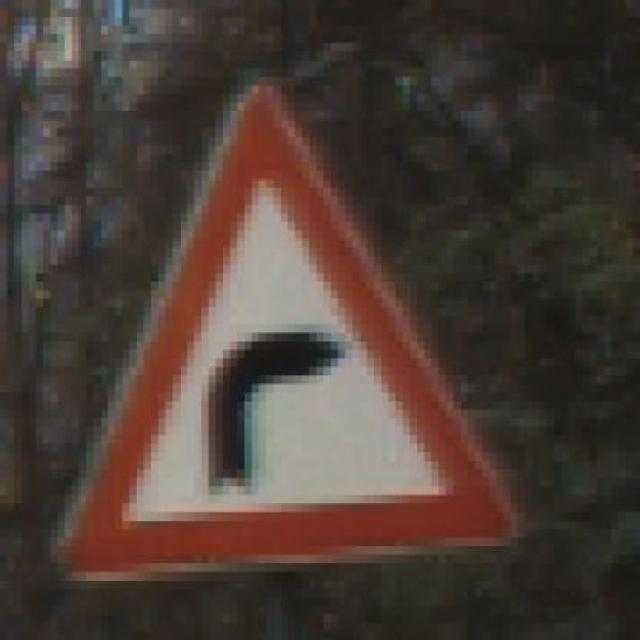Dangerous Rright Curve Ahead: (50, 68, 518, 589)
